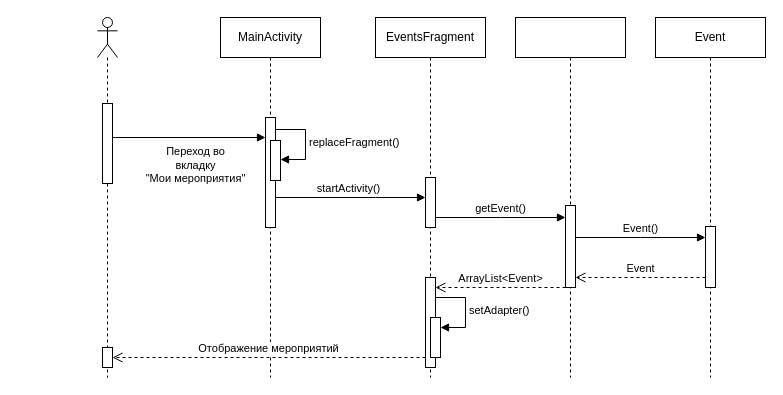
Image size: 783x395. Some labels were removed from this diagram. Here are the shapes that lost their labels. From the top down, the box of each, then its label:
(96, 16, 118, 378): Студент / Ответственный за мероприятие
(514, 16, 626, 378): ServerHelper
